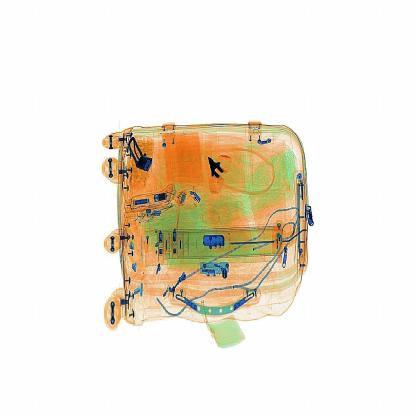gun: (205, 143, 243, 212)
